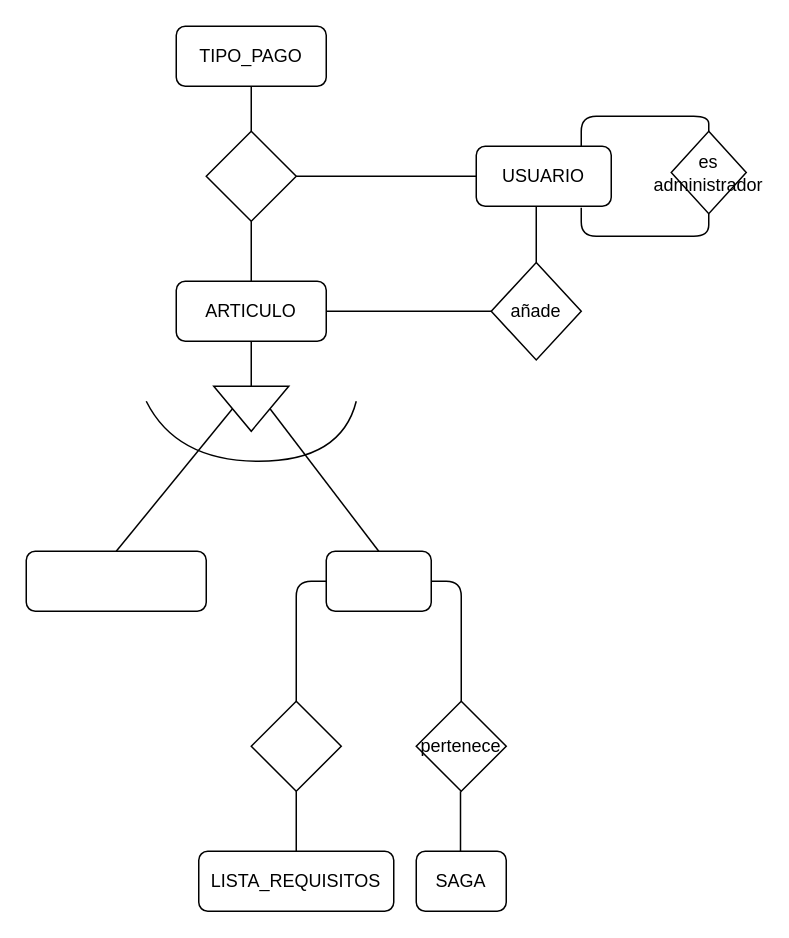
Some shapes in this 789 by 938 pixel diagram are drawn without their labels. Here are the shapes that lost their labels. From the top down, the centre of each, then its label:
At (250,175): "compra".
At (115,580): "MERCHANDISING".
At (378,580): "JUEGO".
At (295,745): "tiene".
